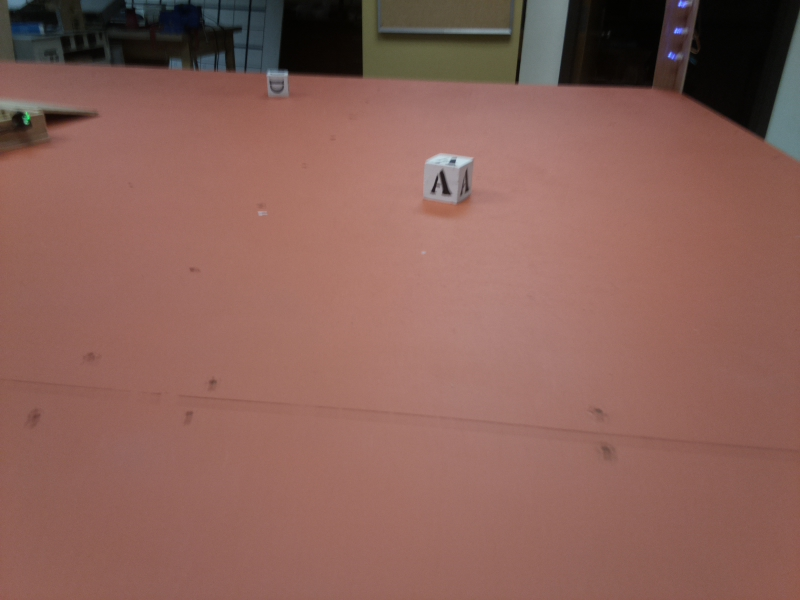blockA: (421, 153, 476, 208)
blockD: (267, 70, 289, 98)
corner: (650, 1, 696, 97)
side: (1, 111, 53, 150)
slope: (1, 96, 98, 122)
